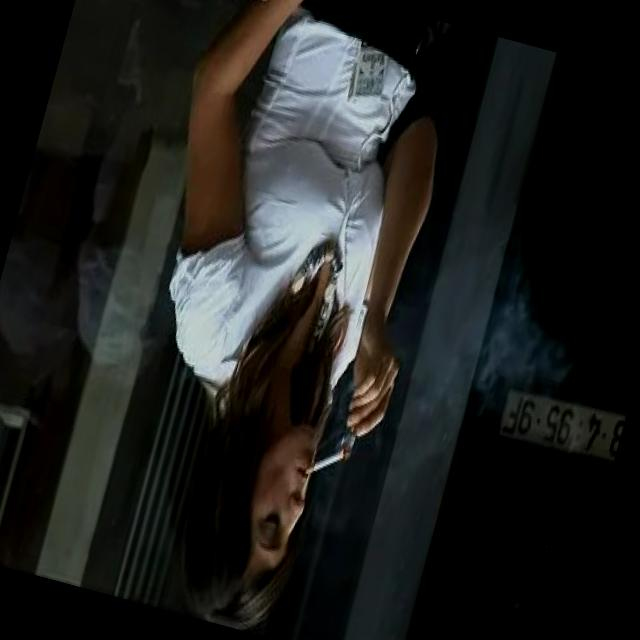smoke: (301, 440, 349, 485)
